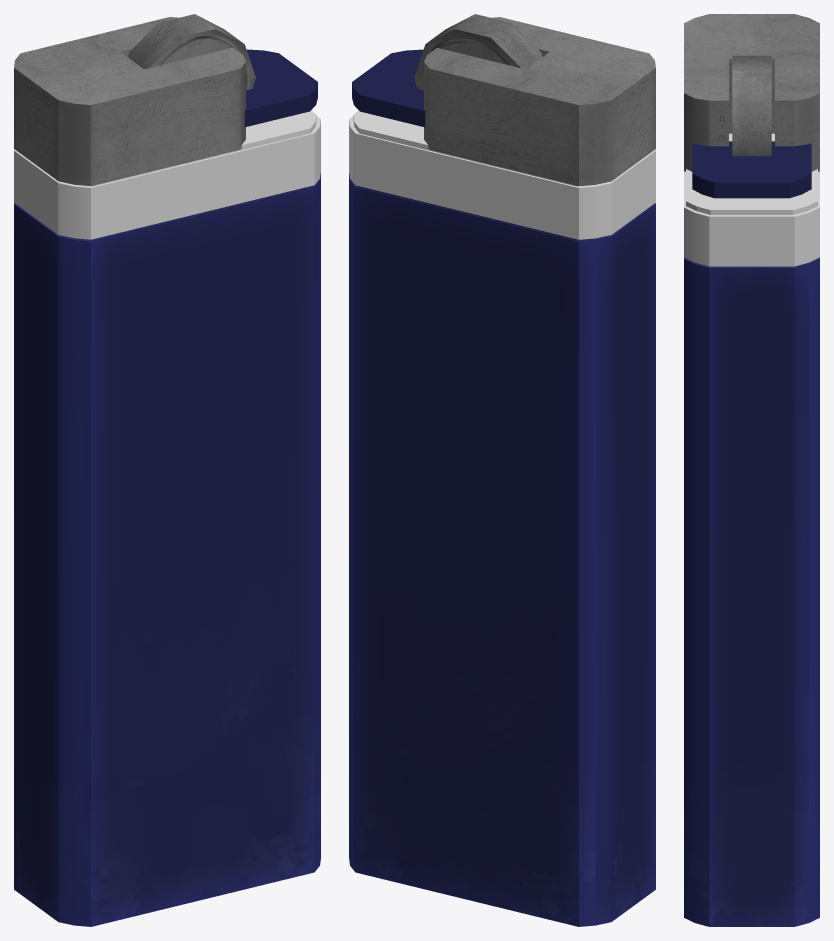
File: Lighter.fbx
3 renders of one model, left to right at view 1: azimuth 30°, elevation 25°; view 2: azimuth 150°, elevation 25°; view 3: azimuth 270°, elevation 25°, orthographic. The views are drawn at different scales.
Parts seen in each view (by area): view 1: Box095, Box098, Box096, Box099, Cylinder091; view 2: Box095, Box098, Box096, Box099, Cylinder091; view 3: Box095, Box098, Box096, Box099, Cylinder091.
Part boxes in pixels (x1=…): Box095: x1=14, y1=172, x2=320, y2=926; Box098: x1=14, y1=17, x2=245, y2=185; Box096: x1=14, y1=110, x2=320, y2=239; Box099: x1=244, y1=49, x2=317, y2=127; Cylinder091: x1=127, y1=14, x2=255, y2=90; Box095: x1=349, y1=173, x2=655, y2=926; Box098: x1=424, y1=17, x2=655, y2=186; Box096: x1=349, y1=110, x2=655, y2=239; Box099: x1=352, y1=49, x2=425, y2=127; Cylinder091: x1=414, y1=14, x2=542, y2=90; Box095: x1=684, y1=257, x2=819, y2=926; Box098: x1=684, y1=14, x2=819, y2=171; Box096: x1=684, y1=133, x2=819, y2=266; Box099: x1=692, y1=141, x2=811, y2=198; Cylinder091: x1=732, y1=55, x2=771, y2=156.
Size of the model in its own units: 39.02 by 120 by 18.19.
